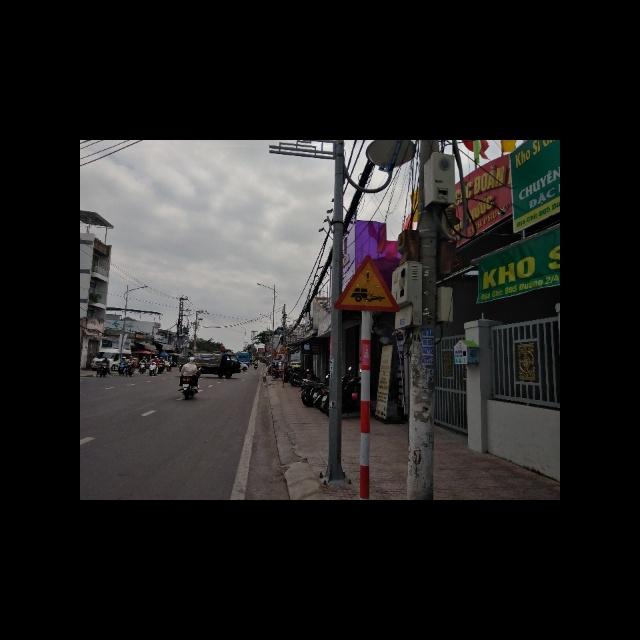Đoạn đường hay xảy ra tai nạn: (332, 253, 401, 311)
